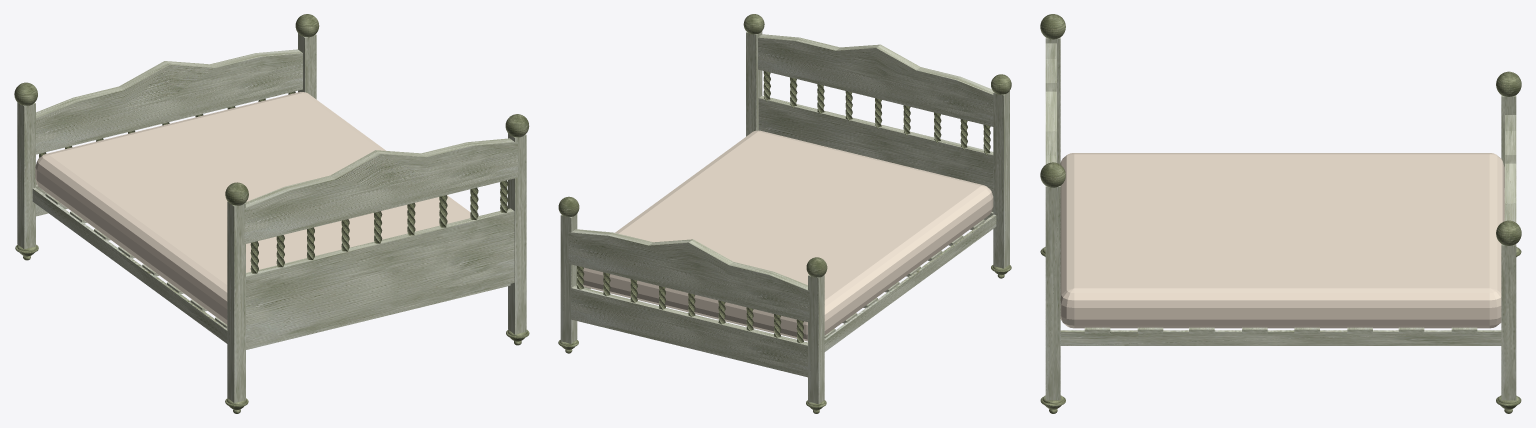
The model's file is bed1.fbx.
The picture shows the model from 3 angles, left to right: view 1: azimuth 30°, elevation 25°; view 2: azimuth 150°, elevation 25°; view 3: azimuth 270°, elevation 25°; orthographic projection. The views are drawn at different scales.
Visible parts, largest first — view 1: Box21; view 2: Box21; view 3: Box21.
Boxes of the visible parts, <box> form: Box21: <box>14,14,529,413</box>; Box21: <box>558,14,1011,413</box>; Box21: <box>1040,14,1521,413</box>.
Bounding box in the file's own units: 1.77 × 2.25 × 1.29.
Materials: 3 (3 with a texture image).
